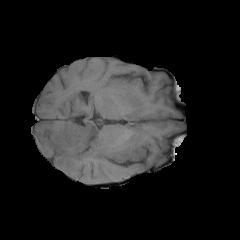glioma: (42, 122, 145, 181)
